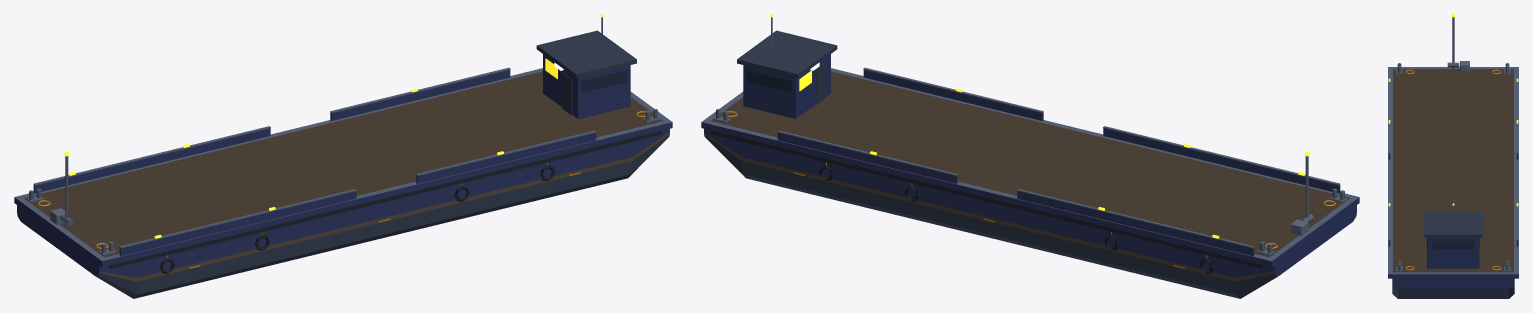
The model's file is dock_barge.glb.
3 views of the same model, side by side, from view 1: azimuth 30°, elevation 25°; view 2: azimuth 150°, elevation 25°; view 3: azimuth 270°, elevation 25° (orthographic). The views are drawn at different scales.
Visible parts, largest first — view 1: walk_slab, hull, hull_paint, deck_fittings, trim, fender, wheelhouse_glass, tyre; view 2: walk_slab, hull, hull_paint, deck_fittings, trim, fender, wheelhouse_glass, tyre; view 3: walk_slab, hull, trim, hull_paint, deck_fittings, wheelhouse_glass, rope, winch.
Boxes of the visible parts, bbox=[...] form: walk_slab: bbox=[14, 68, 672, 267]; hull: bbox=[17, 129, 669, 298]; hull_paint: bbox=[33, 54, 630, 256]; deck_fittings: bbox=[26, 17, 660, 255]; trim: bbox=[536, 30, 636, 115]; fender: bbox=[109, 130, 662, 268]; wheelhouse_glass: bbox=[581, 69, 627, 92]; tyre: bbox=[159, 165, 555, 273]; walk_slab: bbox=[701, 68, 1359, 267]; hull: bbox=[704, 129, 1356, 298]; hull_paint: bbox=[743, 54, 1340, 256]; deck_fittings: bbox=[713, 17, 1347, 255]; trim: bbox=[737, 30, 837, 104]; fender: bbox=[711, 130, 1264, 268]; wheelhouse_glass: bbox=[746, 69, 792, 92]; tyre: bbox=[819, 165, 1214, 273]; walk_slab: bbox=[1388, 67, 1518, 278]; hull: bbox=[1392, 278, 1514, 298]; trim: bbox=[1424, 212, 1482, 237]; hull_paint: bbox=[1388, 153, 1518, 268]; deck_fittings: bbox=[1388, 17, 1518, 271]; wheelhouse_glass: bbox=[1427, 238, 1479, 249]; rope: bbox=[1405, 69, 1501, 270]; winch: bbox=[1460, 61, 1469, 71].
Size of the model in its own units: 30 by 6.72 by 8.
